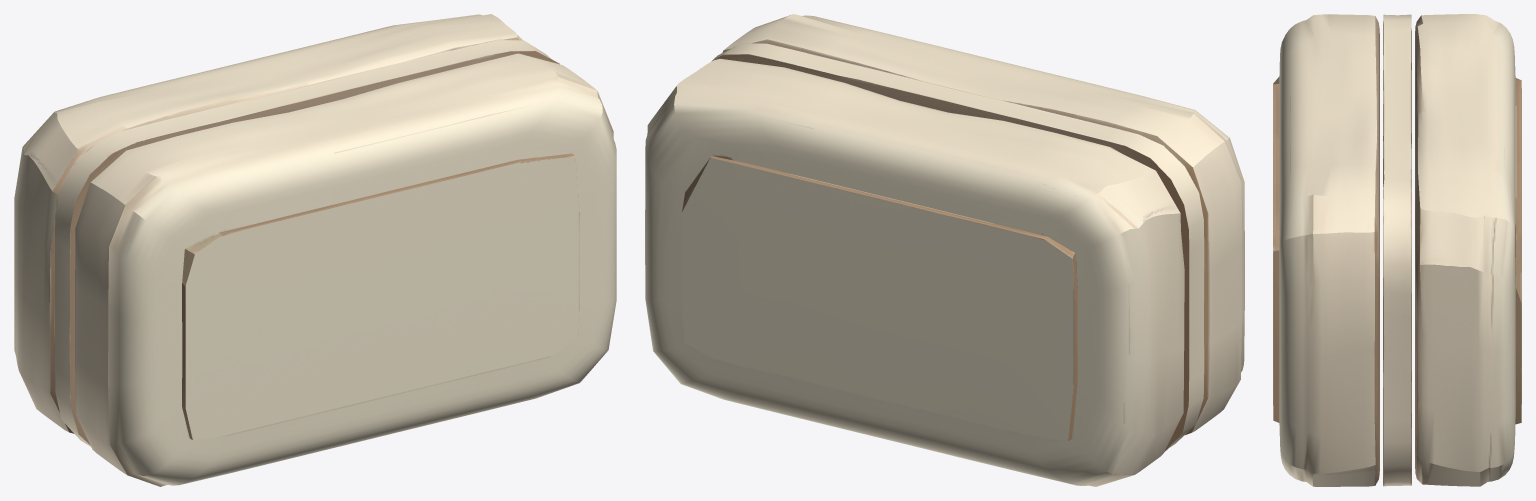
The model's file is soap_bar.glb.
3 views of the same model, side by side, from view 1: azimuth 30°, elevation 25°; view 2: azimuth 150°, elevation 25°; view 3: azimuth 270°, elevation 25° (orthographic). The views are drawn at different scales.
Visible parts, largest first — view 1: Mesh_0; view 2: Mesh_0; view 3: Mesh_0.
Boxes of the visible parts, x1,y1,x2,y2 form: Mesh_0: [14, 14, 616, 486]; Mesh_0: [645, 14, 1244, 486]; Mesh_0: [1273, 14, 1521, 486].
Size of the model in its own units: 1.9 by 1.13 by 0.8737.
Materials: 1 (1 with a texture image).
